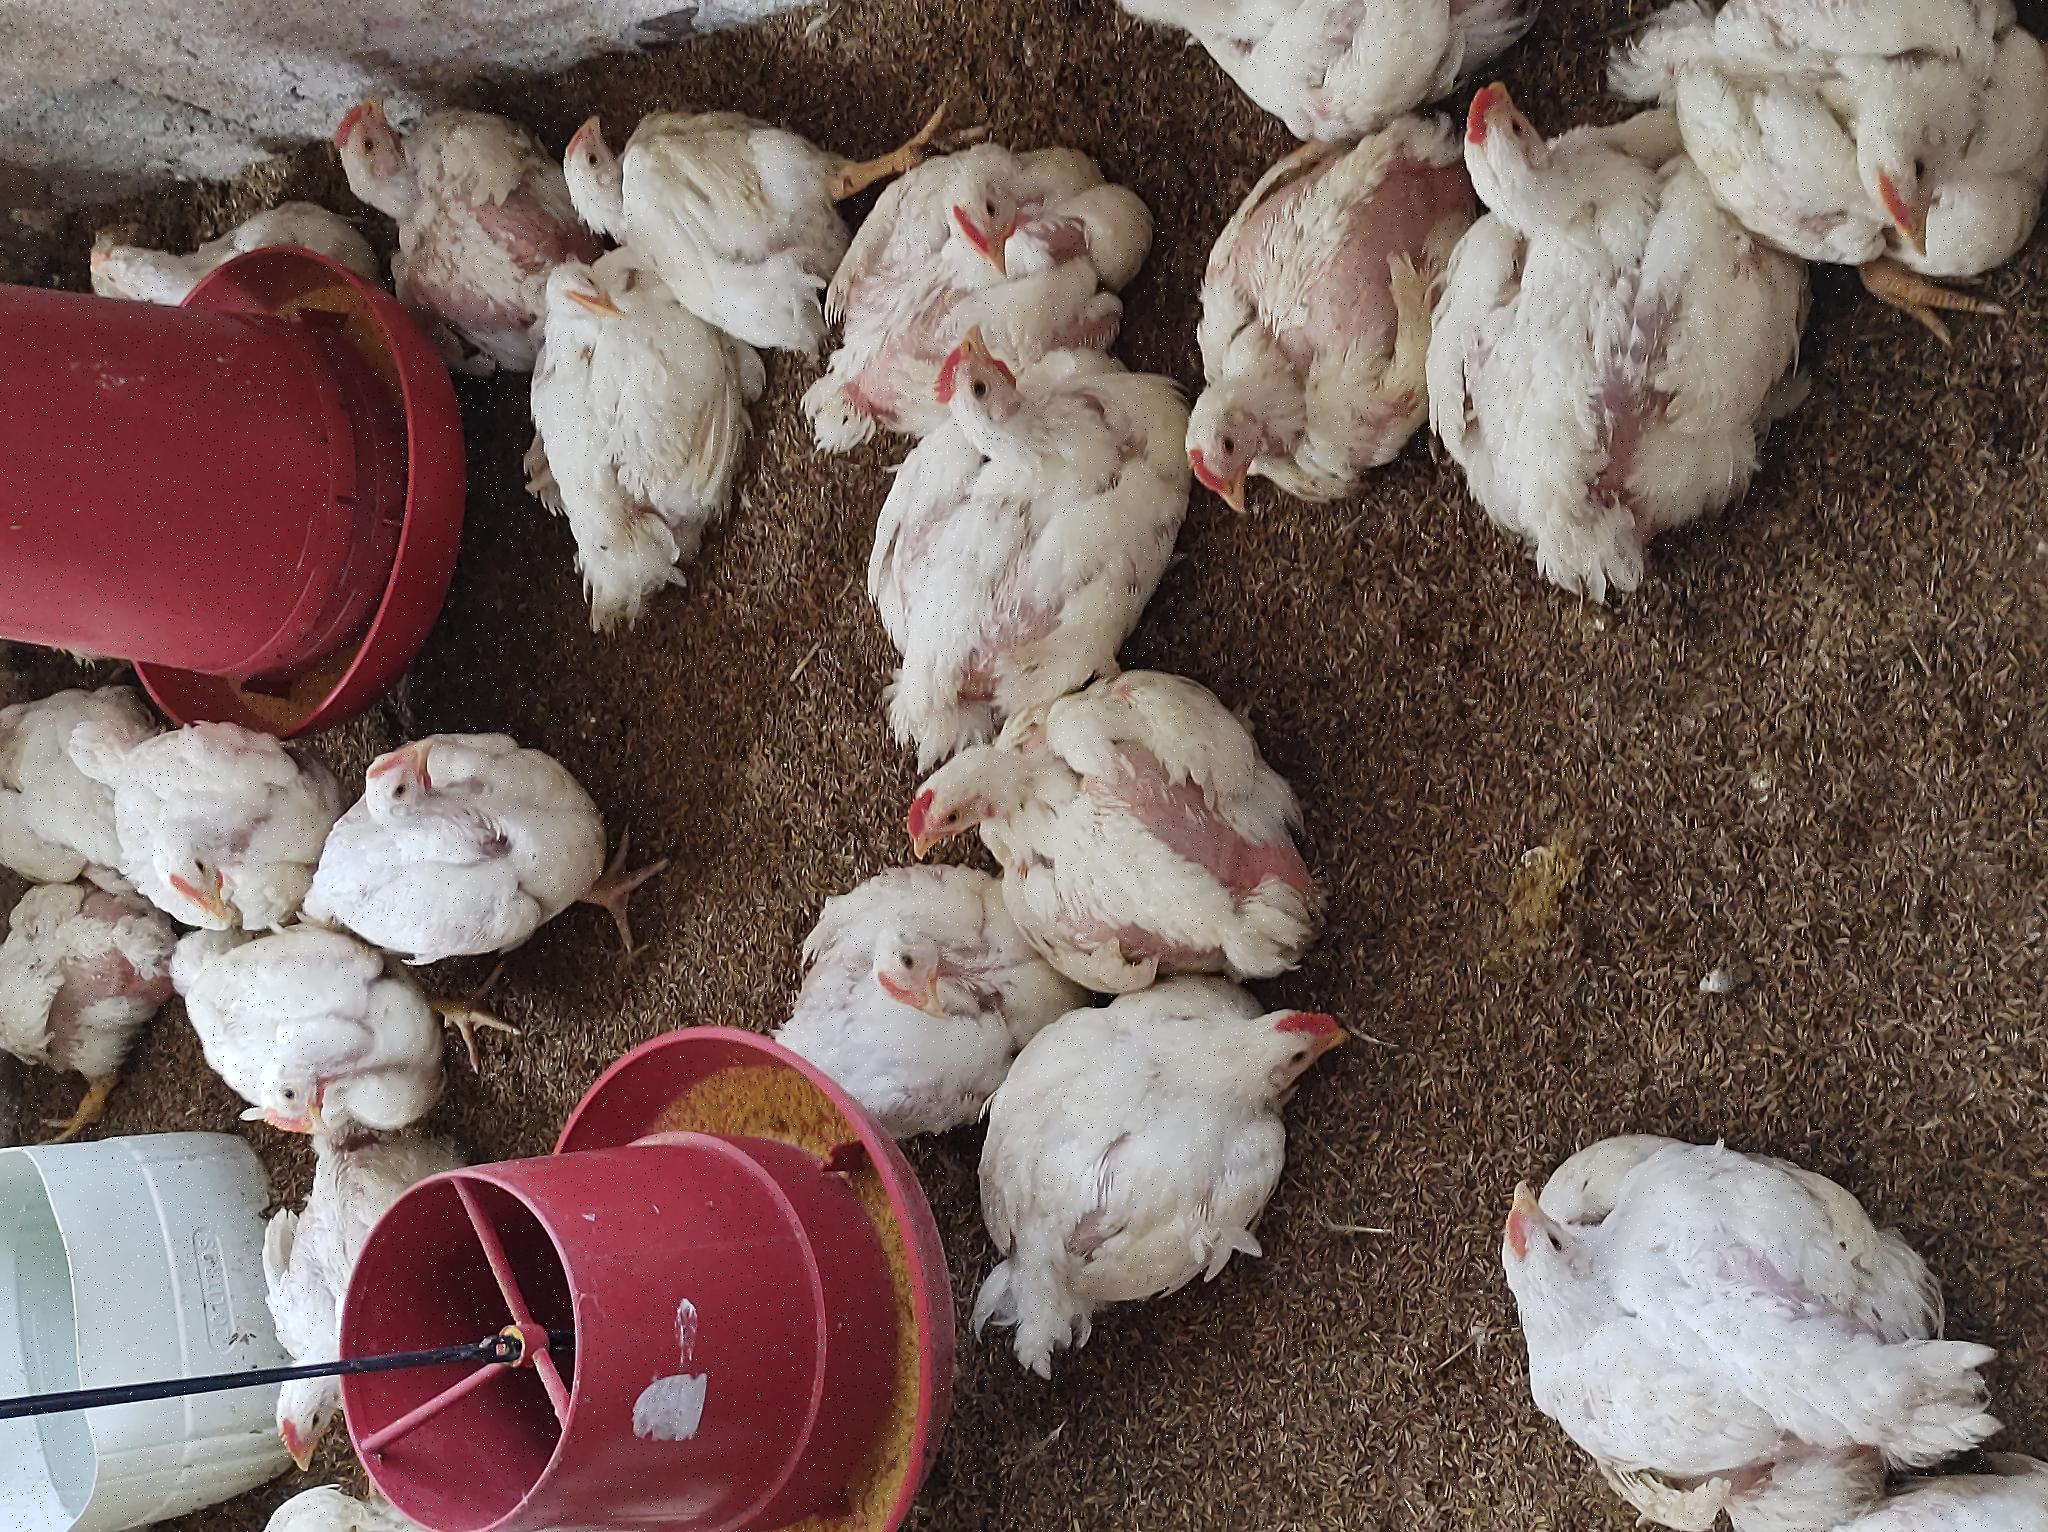Pollos: (161, 953, 542, 1394), (537, 880, 874, 1324), (808, 805, 1171, 1186), (1001, 1123, 1404, 1426), (920, 486, 1279, 742), (1091, 855, 1382, 1131), (1189, 311, 1462, 579), (1239, 566, 1482, 867), (579, 315, 812, 624), (1392, 1043, 1533, 1532), (85, 230, 389, 454), (394, 727, 640, 1003), (376, 167, 602, 454), (933, 1439, 1440, 1532), (610, 109, 816, 315), (660, 2, 890, 167), (426, 2, 668, 153)
